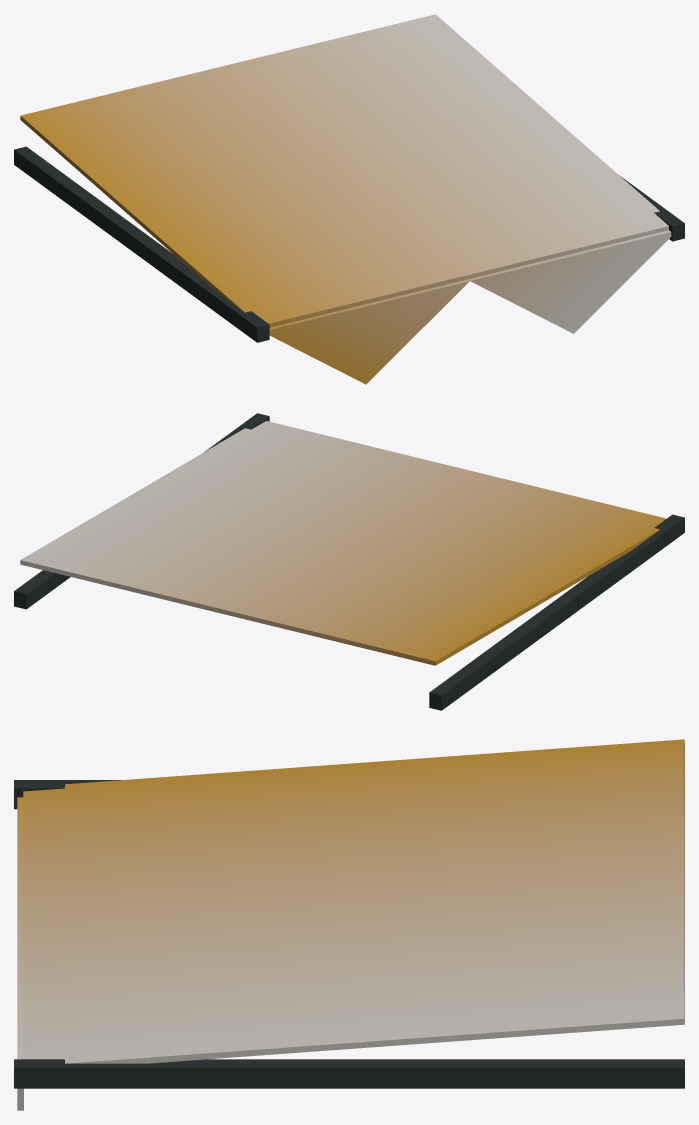
File: mai_hien_vang.glb
The picture shows the model from 3 angles, top to bottom: view 1: azimuth 30°, elevation 25°; view 2: azimuth 150°, elevation 25°; view 3: azimuth 270°, elevation 25°; orthographic projection. The views are drawn at different scales.
Parts seen in each view (by area): view 1: mai_hien_vang; view 2: mai_hien_vang; view 3: mai_hien_vang.
Boxes of the visible parts, x1=… form: mai_hien_vang: x1=14, y1=14, x2=684, y2=384; mai_hien_vang: x1=14, y1=413, x2=684, y2=710; mai_hien_vang: x1=14, y1=739, x2=684, y2=1110.
Size of the model in its own units: 1.03 by 0.27 by 1.01.
